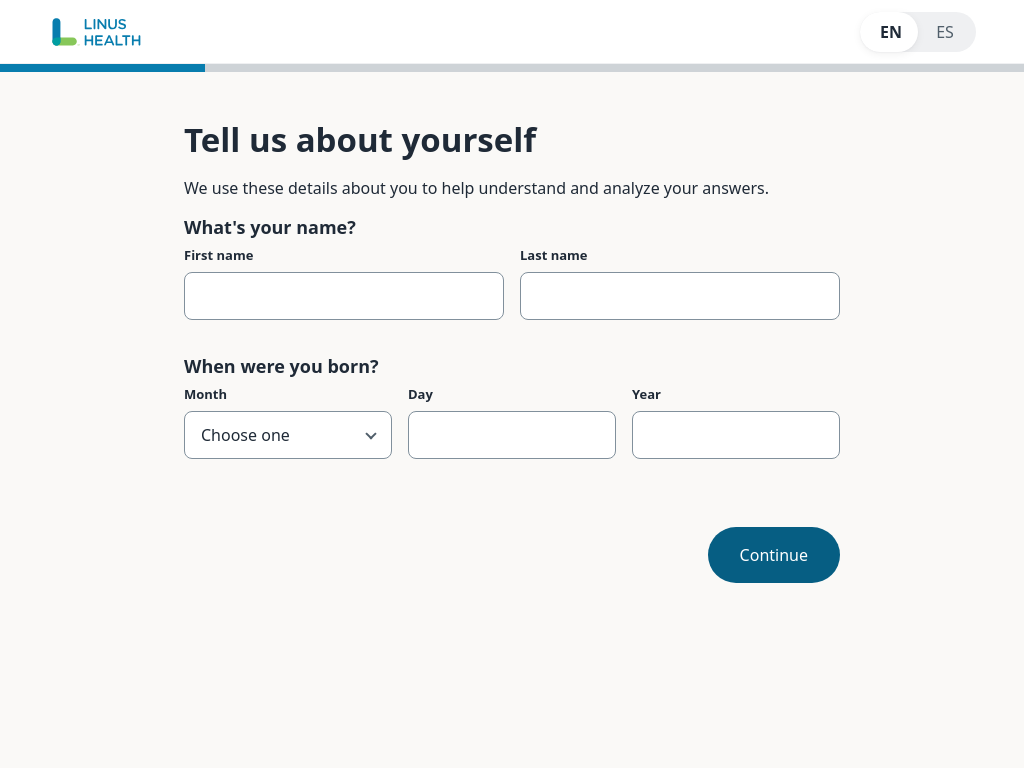
it: OnboardingPage › clears each field-empty error independently as that field is filled in
Step 1. Click the button "Continue" → (774,555), box 708,527 -> 840,583
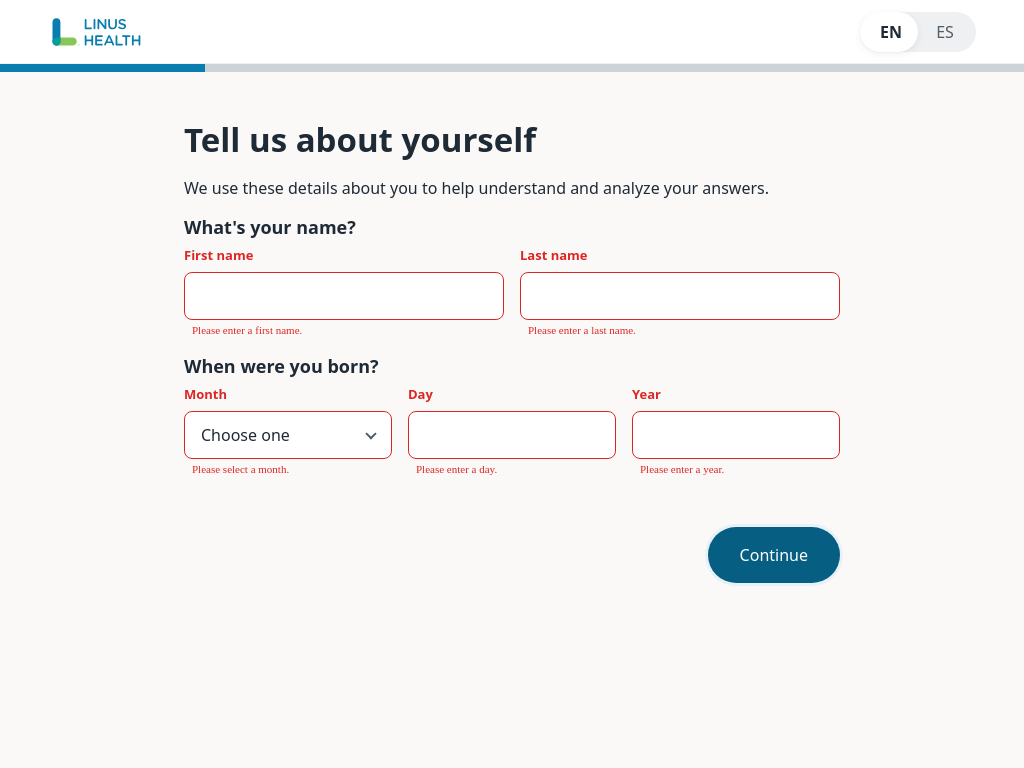
Expected: the text "Please enter a first name." is shown, 192,324 -> 302,336
Step 2. Type "Ada" into the field labelled "First name" → (344,296), box 185,273 -> 503,319
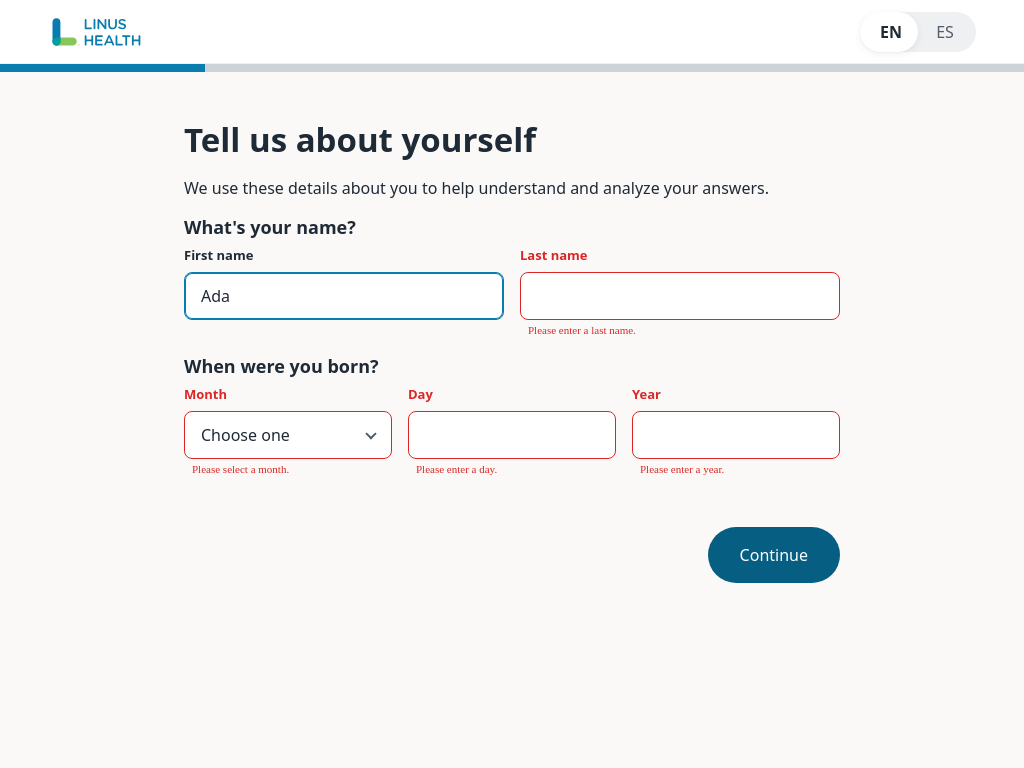
Expected: the text "Please enter a last name." is shown, 528,324 -> 636,336
Expected: the text "Please select a month." is shown, 192,463 -> 289,475
Expected: the text "Please enter a first name." is gone
